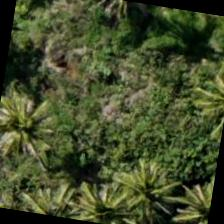Kelapa_Sawit: (95, 128, 199, 223), (35, 150, 135, 223), (0, 71, 69, 171), (160, 49, 223, 148), (149, 153, 218, 223)
